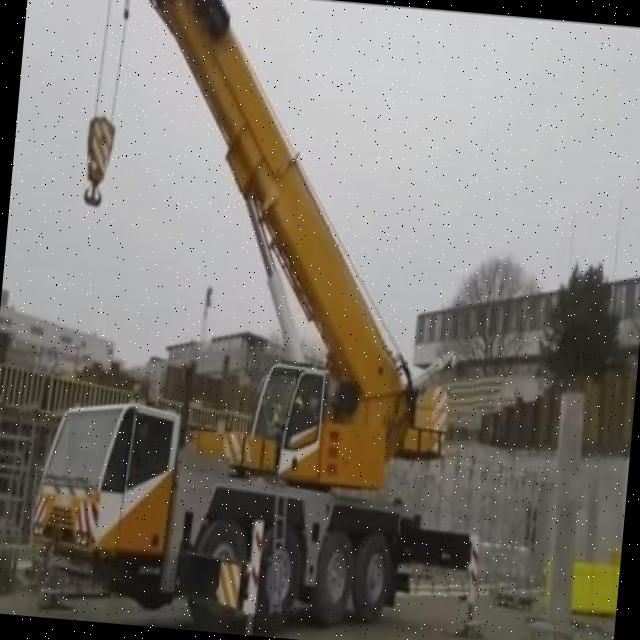Mobile Crane: (26, 0, 533, 640)
